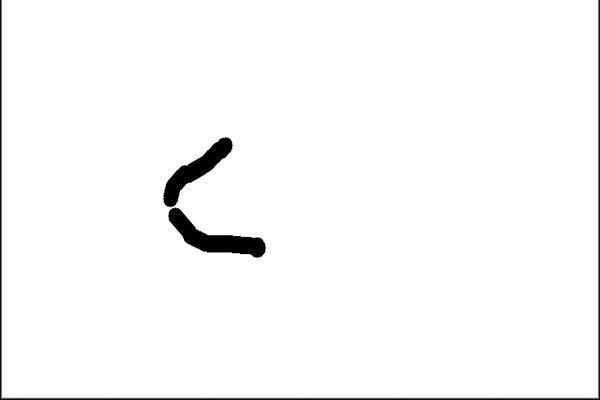C: (157, 133, 273, 264)
